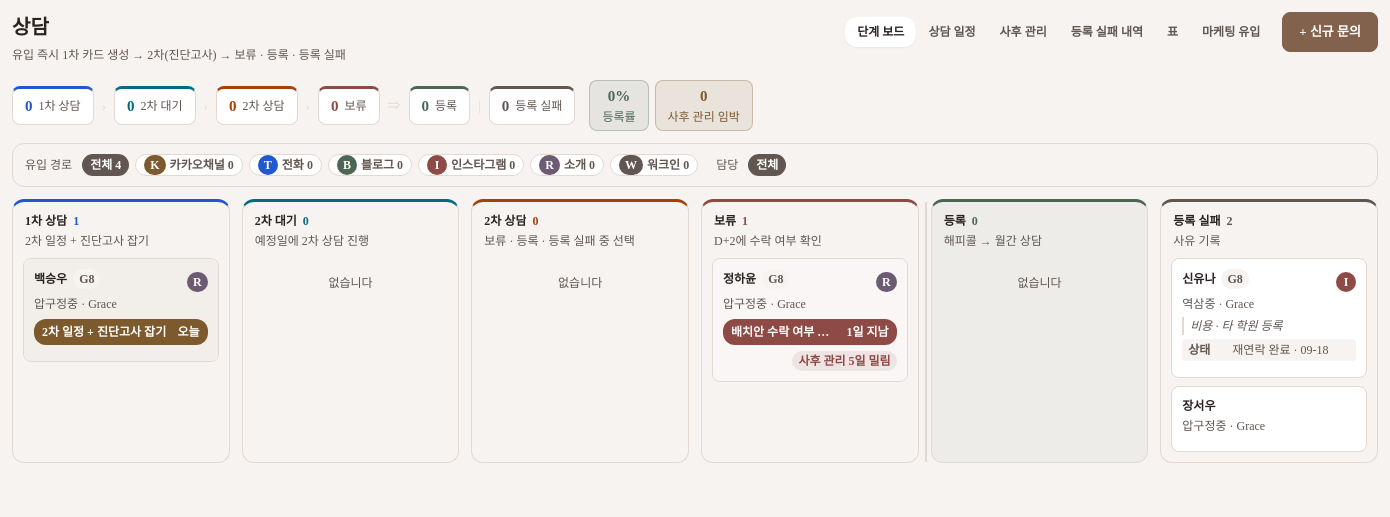
Test: §23 머리 7탭 (23-01 · 24-01) › 「사후 관리」는 다음 날짜가 적힌 건을 날짜 순으로, 「표」는 같은 응답의 모든 건을 한 줄씩 — 새로 묻지 않는다
Expected: the text "백승우" is shown, [34,270,67,288]
Click the button "사후 관리" at point(1023, 32), box [988,17,1059,47]
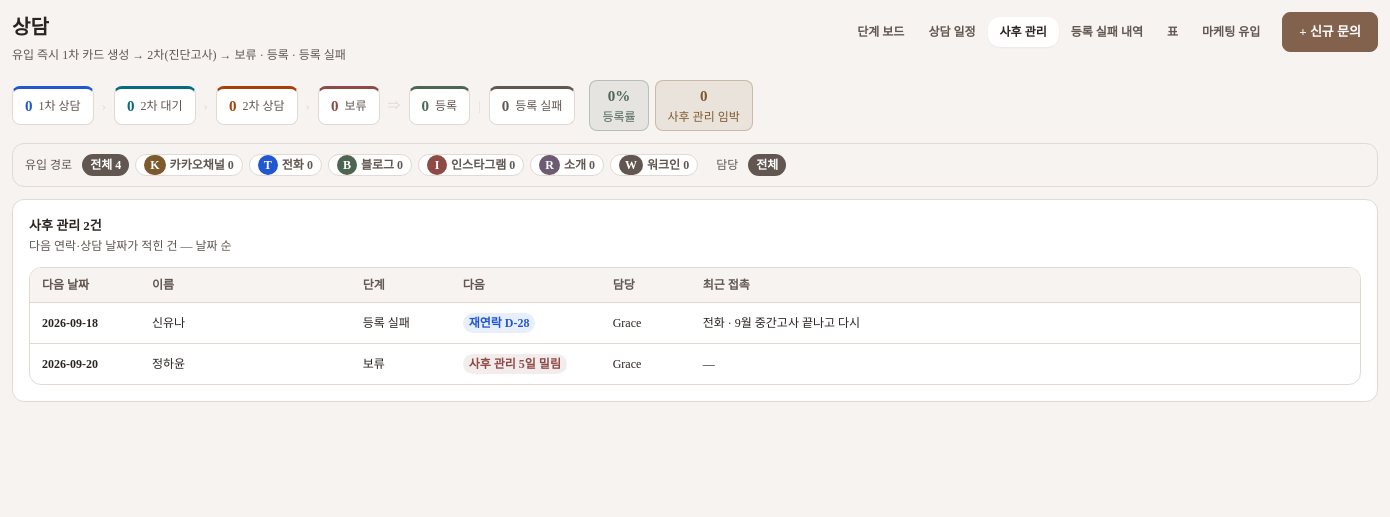
Expected: the row "2026-09-18 신유나 등록 실패 재연락 D-28 Grace 전화 · 9월 중간고사 끝나고 다시" is shown, [30,302,1360,344]
Expected: the row "2026-09-20 정하윤 보류 사후 관리 5일 밀림 Grace —" is shown, [30,344,1360,384]
Click the button "표" at point(1172, 32), box [1155,17,1190,47]
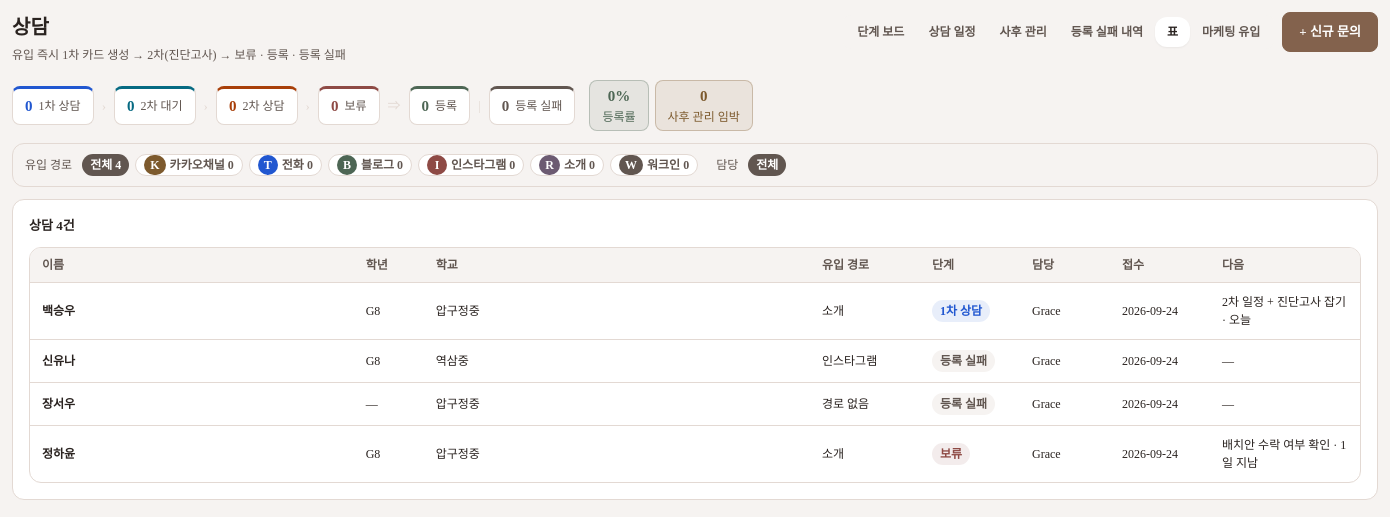
Expected: the number of rows is 5, [30,248,1360,282]; [30,282,1360,340]; [30,340,1360,382]; [30,382,1360,426]; [30,426,1360,482]
Expected: the heading "상담 4건" is shown, [29,216,75,235]
